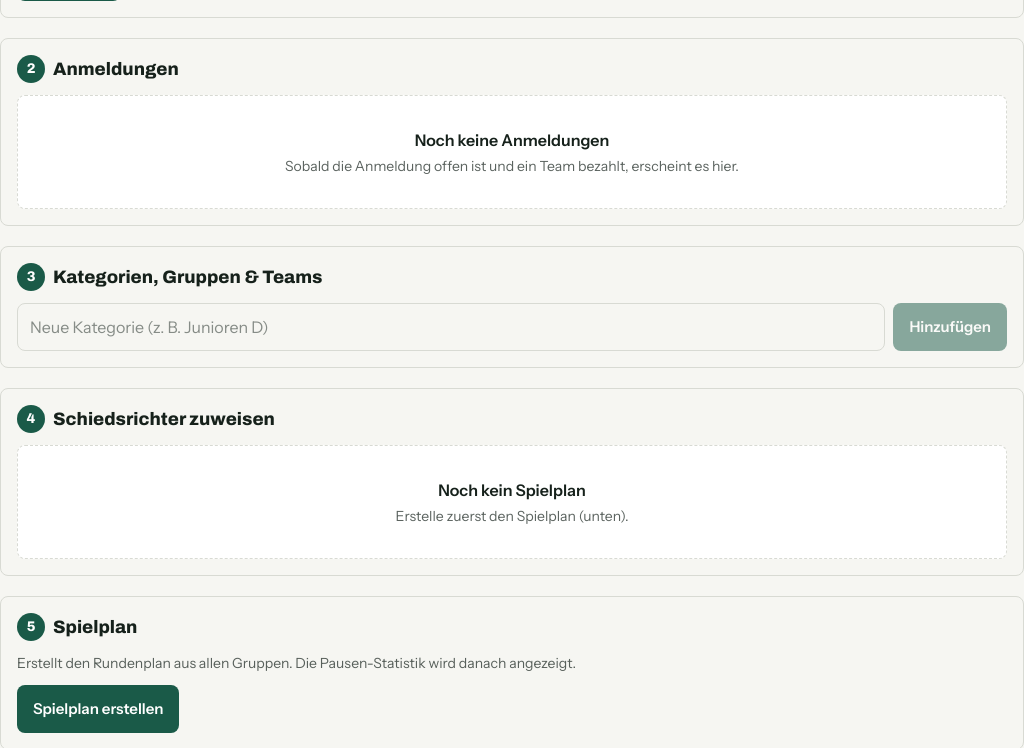
schedule generation blockers › survives UNASSIGNED_TEAMS without a team list
The image size is (1024, 748).
(page scrolled)
Step 1. Click the button "Spielplan erstellen" → coordinates (98, 709), box [17,685,180,733]
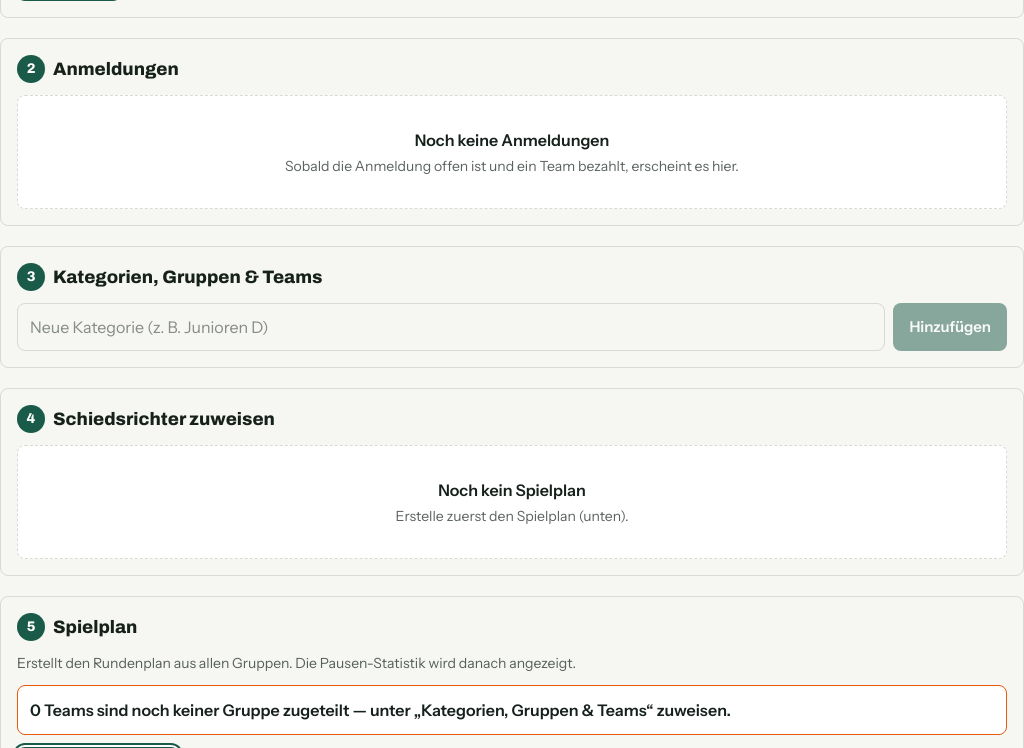
Result: the message shows "noch keiner Gruppe zugeteilt" at [30,700,731,720]
